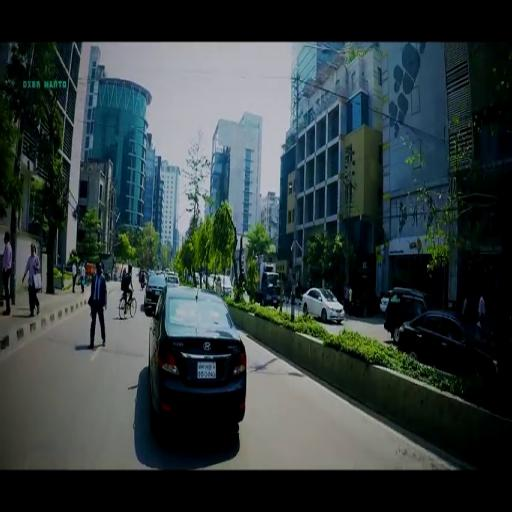bicycle: (119, 289, 137, 319)
car: (149, 286, 248, 428), (398, 310, 501, 382), (303, 286, 346, 321), (144, 273, 166, 307)
pickup: (248, 260, 282, 308)
suv: (384, 285, 432, 340)
